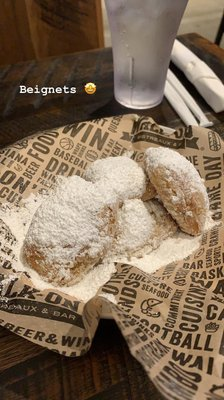pizza: (102, 0, 190, 110)
